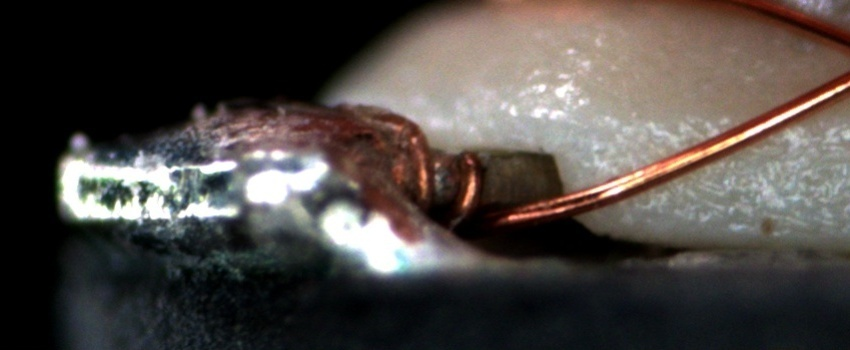DL: (611, 110, 849, 148)
TE: (375, 105, 489, 233)
